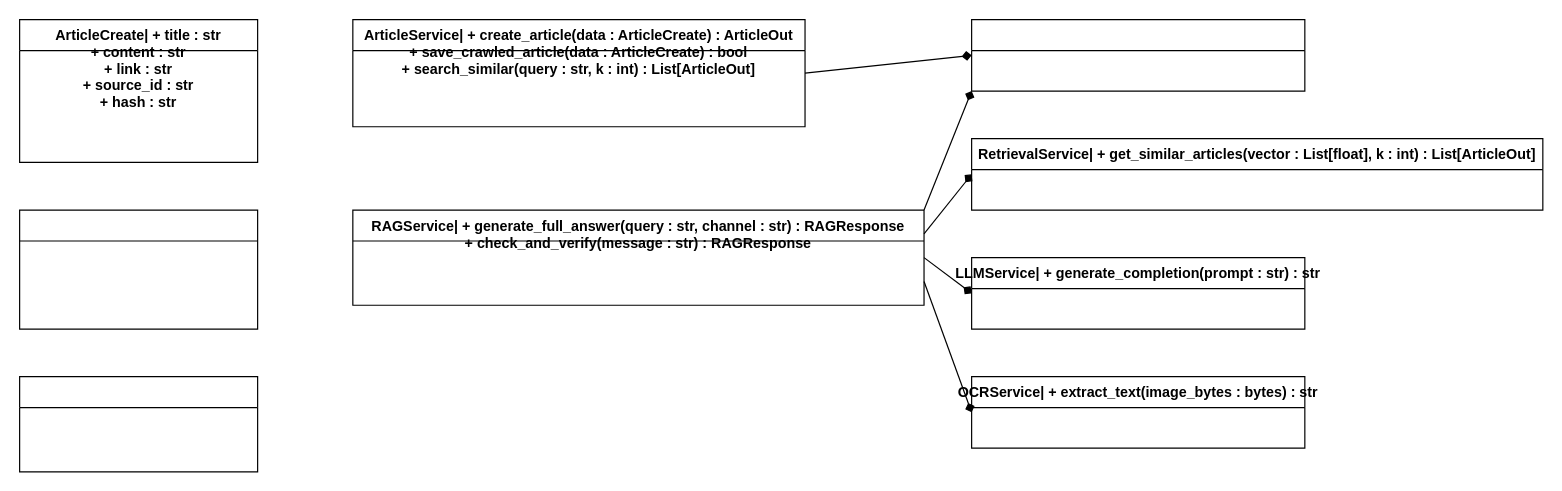
This 1562x491 diagram has some shape labels left out. The shapes that lost their labels are listed below. From the top down, each one's box as (x1, y1, x2, y2) in pixels, then its label:
(970, 18, 1305, 91): EmbeddingService| + generate(text : str) : List[float]
(18, 209, 258, 329): ArticleOut| + id : int + title : str + content : str + similarity : float
(18, 375, 258, 472): RAGRequest| + query : str + top_k : int + min_score : float
